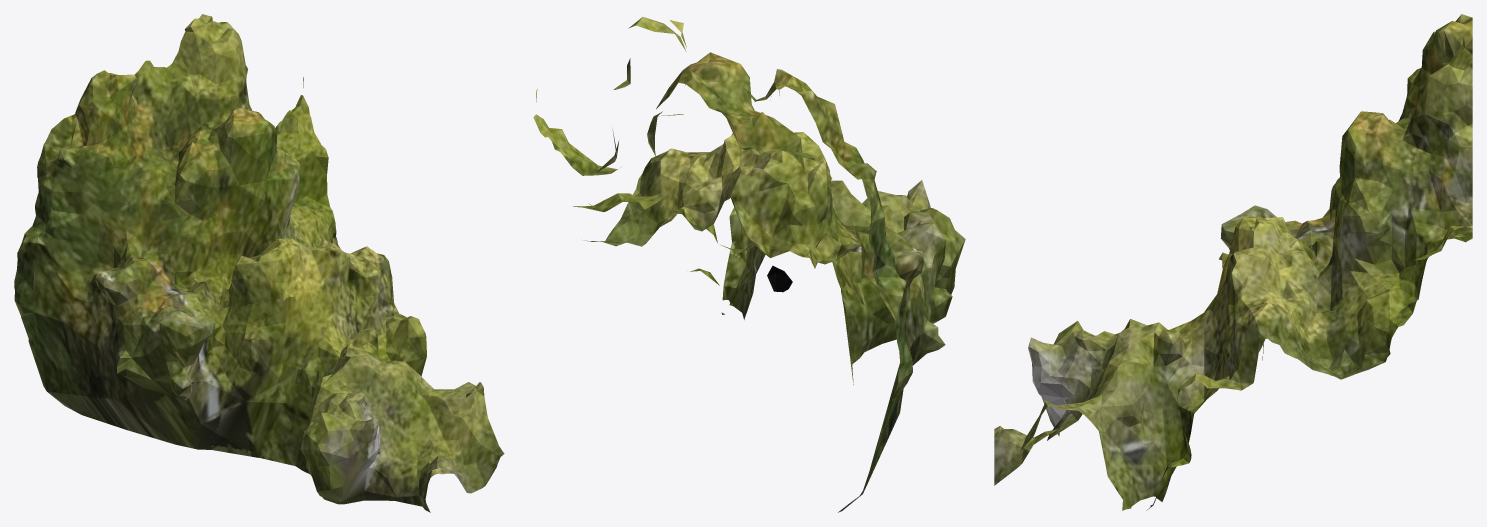
3 renders of one model, left to right at view 1: azimuth 30°, elevation 25°; view 2: azimuth 150°, elevation 25°; view 3: azimuth 270°, elevation 25°, orthographic. The views are drawn at different scales.
Size of the model in its own units: 4.83 by 5.69 by 5.9.
Materials: 4 (4 with a texture image).
